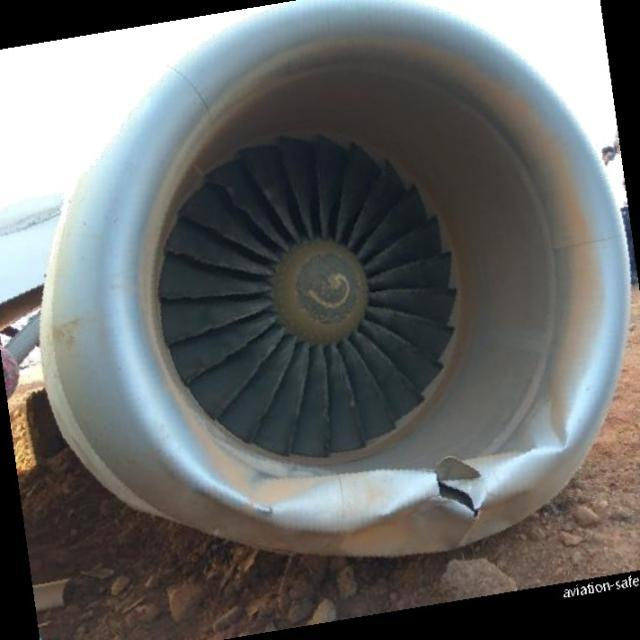crack: (439, 471, 481, 521)
dent: (265, 463, 435, 541), (514, 393, 579, 456)
